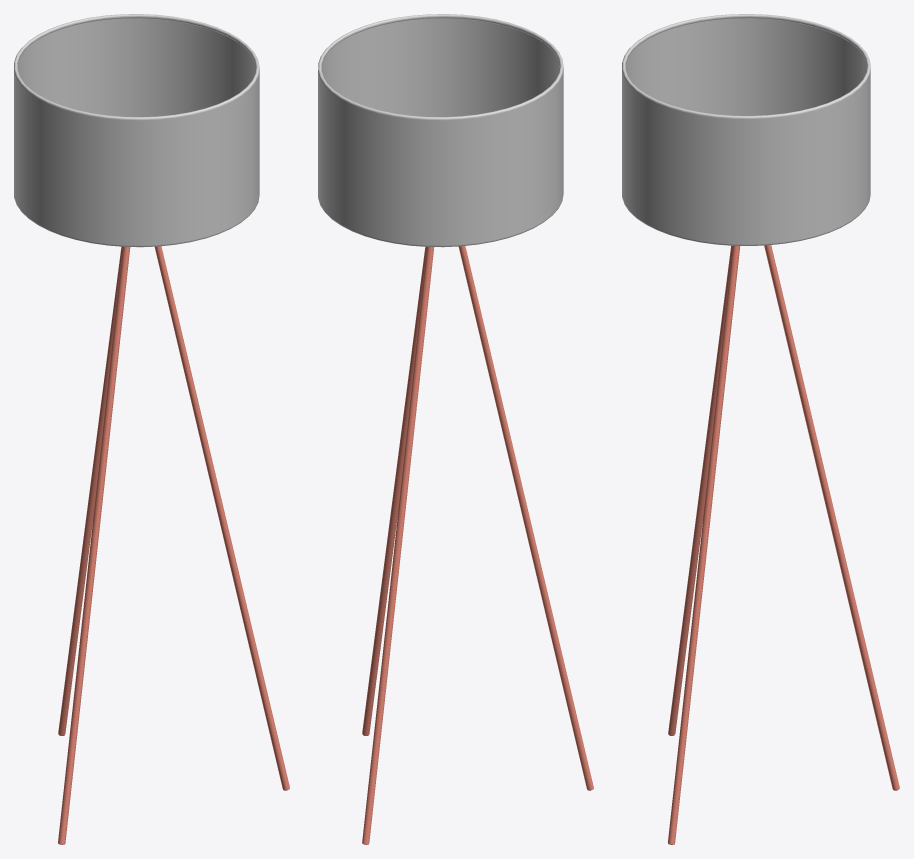
File: lamp-3-draco.glb
3 views of the same model, side by side, from view 1: azimuth 30°, elevation 25°; view 2: azimuth 150°, elevation 25°; view 3: azimuth 270°, elevation 25° (orthographic).
Parts seen in each view (by area): view 1: Frances_Tripod_Floor_Lamp_Copper; view 2: Frances_Tripod_Floor_Lamp_Copper; view 3: Frances_Tripod_Floor_Lamp_Copper.
Boxes of the visible parts, x1,y1,x2,y2 form: Frances_Tripod_Floor_Lamp_Copper: [14, 14, 289, 844]; Frances_Tripod_Floor_Lamp_Copper: [318, 14, 593, 844]; Frances_Tripod_Floor_Lamp_Copper: [622, 14, 899, 844].
Size of the model in its own units: 54.49 by 163 by 56.74.
